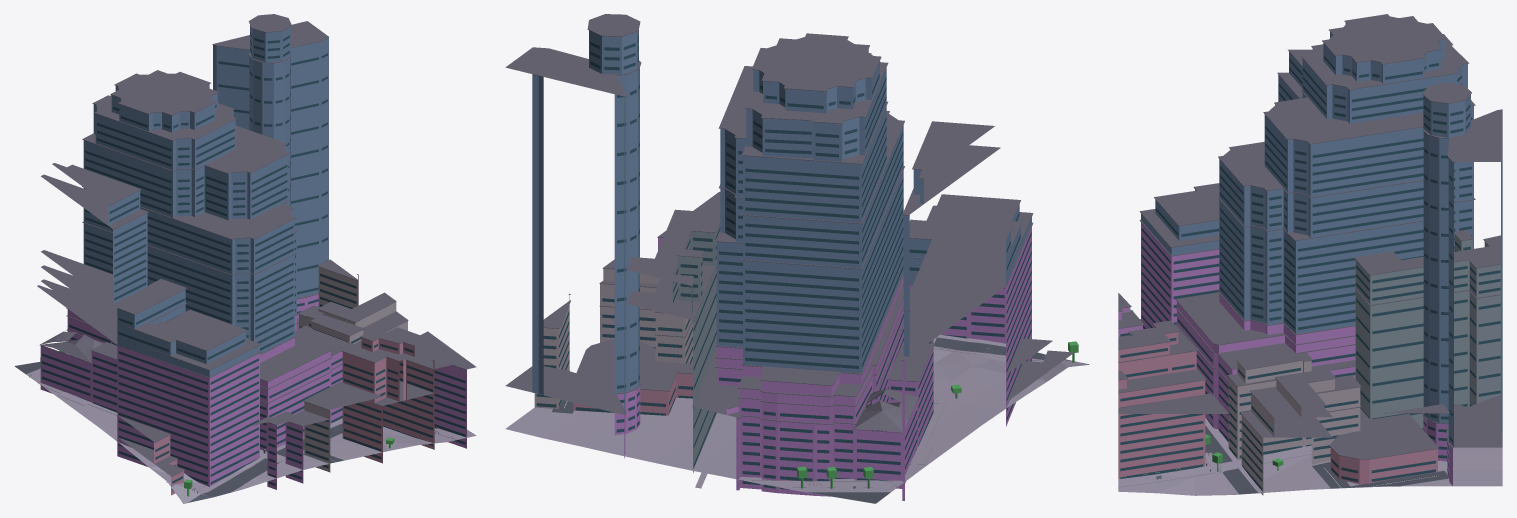
The picture shows the model from 3 angles, left to right: view 1: azimuth 30°, elevation 25°; view 2: azimuth 150°, elevation 25°; view 3: azimuth 270°, elevation 25°; orthographic projection. The views are drawn at different scales.
Parts seen in each view (by area): view 1: compiled-chunk; view 2: compiled-chunk; view 3: compiled-chunk.
Boxes of the visible parts, x1=… form: compiled-chunk: x1=14, y1=14, x2=476, y2=503; compiled-chunk: x1=505, y1=14, x2=1089, y2=503; compiled-chunk: x1=1118, y1=14, x2=1502, y2=495.
Bounding box in the file's own units: 120 × 130 × 120.
